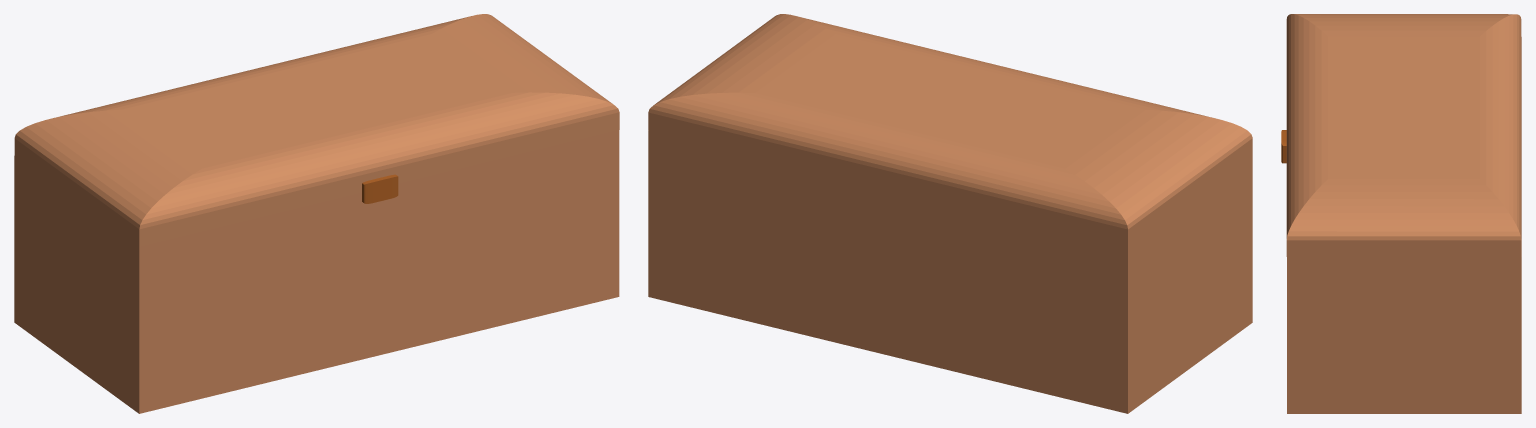
File: toychest.fbx
3 renders of one model, left to right at view 1: azimuth 30°, elevation 25°; view 2: azimuth 150°, elevation 25°; view 3: azimuth 270°, elevation 25°, orthographic. The views are drawn at different scales.
Parts seen in each view (by area): view 1: Cube; view 2: Cube; view 3: Cube.
Boxes of the visible parts, x1,y1,x2,y2 form: Cube: [14, 14, 619, 413]; Cube: [648, 14, 1252, 413]; Cube: [1281, 14, 1521, 413].
Bounding box in the file's own units: 2789 × 1157 × 1285.
